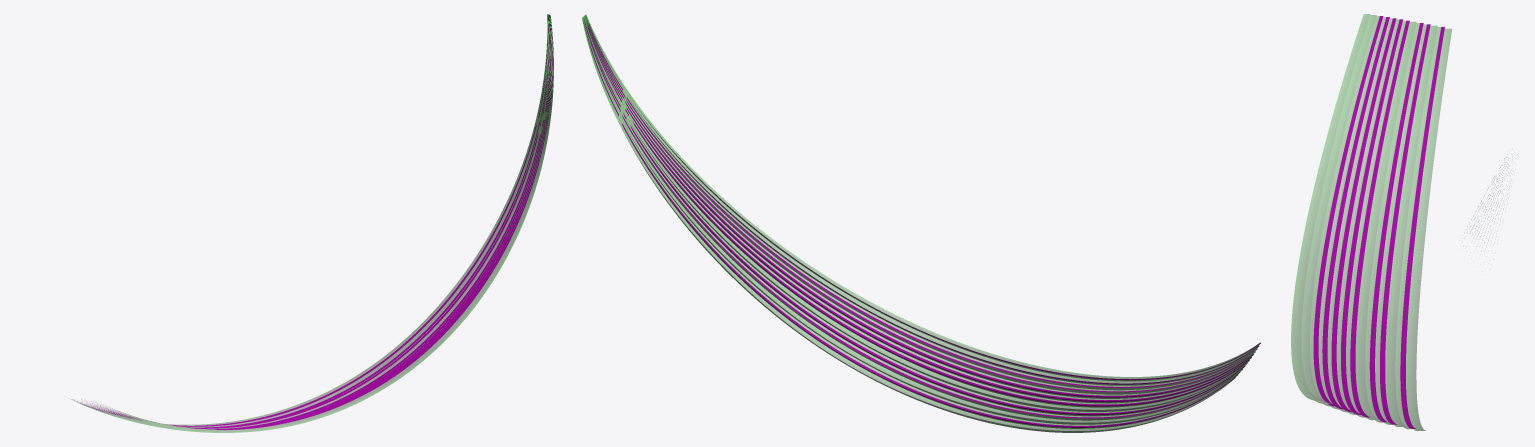
Rendered from lowerTerrace03.glb.
3 renders of one model, left to right at view 1: azimuth 30°, elevation 25°; view 2: azimuth 150°, elevation 25°; view 3: azimuth 270°, elevation 25°, orthographic. The views are drawn at different scales.
Visible parts, largest first — view 1: lowerTerrace03; view 2: lowerTerrace03; view 3: lowerTerrace03.
Boxes of the visible parts, <box> form: lowerTerrace03: <box>67,14,553,432</box>; lowerTerrace03: <box>582,14,1260,432</box>; lowerTerrace03: <box>1291,14,1506,431</box>.
Size of the model in its own units: 127 by 66.52 by 28.78.
